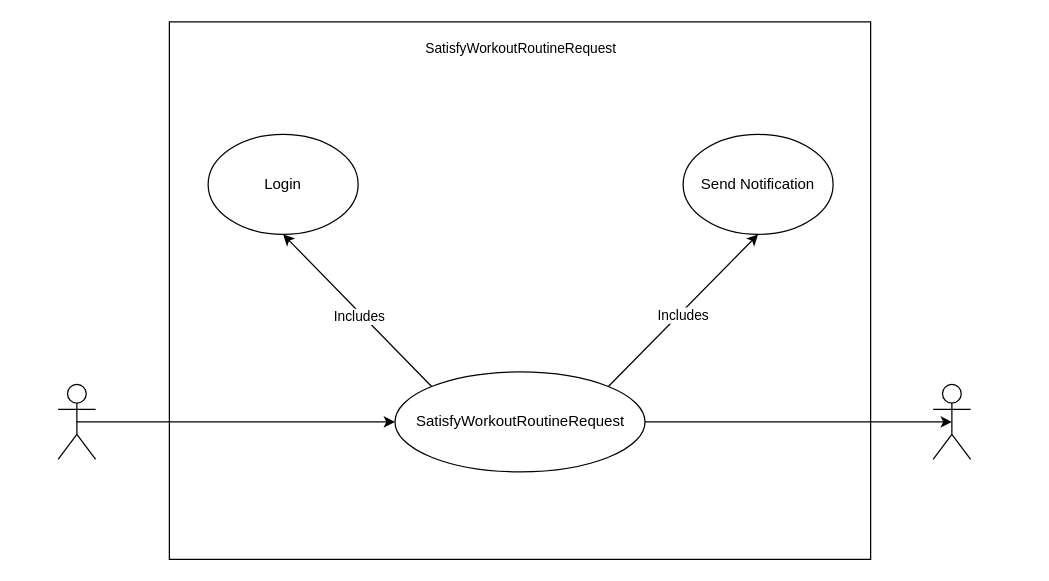
The diagram is 1049 pixels wide and 581 high, and some of its shapes have lost their labels. Each missing label, with the centre of its shape:
"EmailSystemBoundary" goes at point (951, 421).
"Personal Trainer" goes at point (76, 421).
